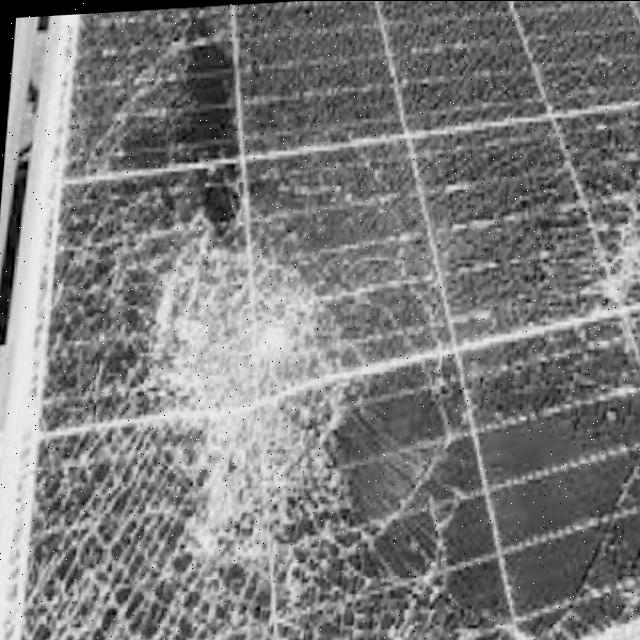Anomaly Solar Panel: (14, 0, 640, 640)
Structural Damage: (22, 23, 476, 640), (532, 174, 640, 364), (552, 548, 640, 630)
